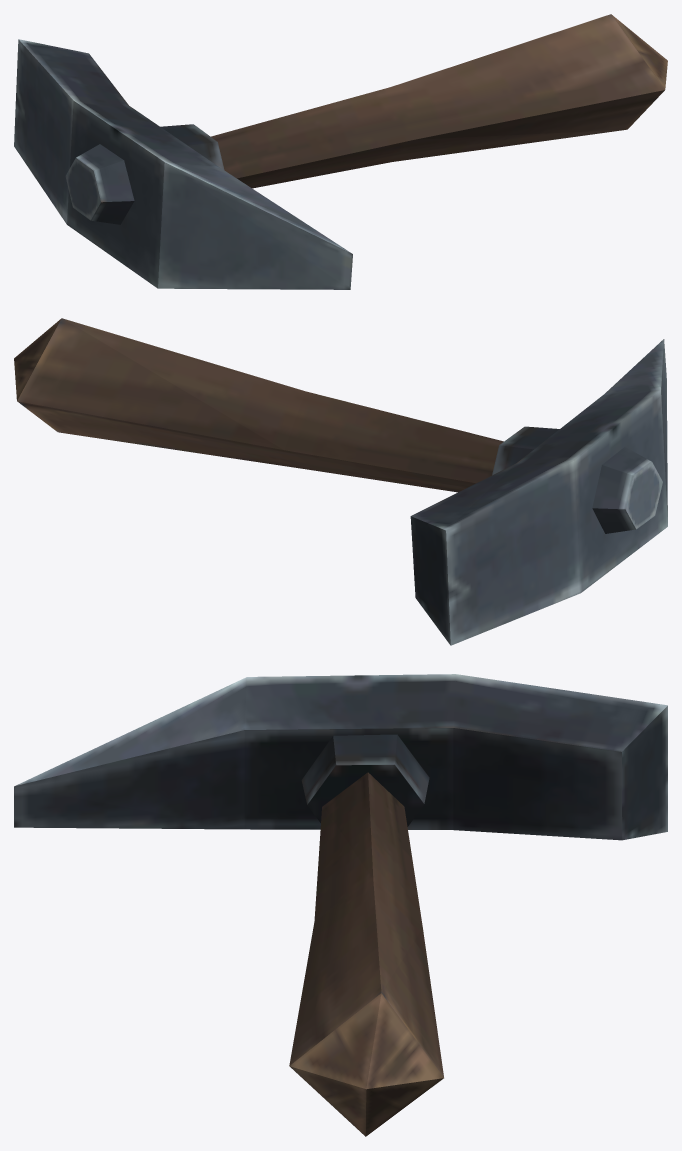
File: bandit_pickaxe_01.fbx
3 views of the same model, one above another, from view 1: azimuth 30°, elevation 25°; view 2: azimuth 150°, elevation 25°; view 3: azimuth 270°, elevation 25° (orthographic). The views are drawn at different scales.
Parts seen in each view (by area): view 1: obj0.620; view 2: obj0.620; view 3: obj0.620.
Boxes of the visible parts, x1,y1,x2,y2 form: obj0.620: [14, 14, 667, 289]; obj0.620: [14, 318, 667, 645]; obj0.620: [14, 674, 667, 1136].
Size of the model in its own units: 1.4 by 0.2929 by 1.11.
